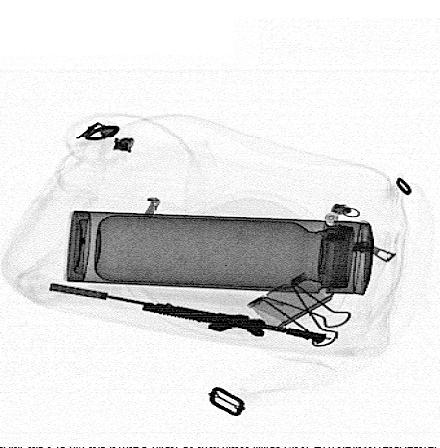Gun: (47, 282, 330, 346)
